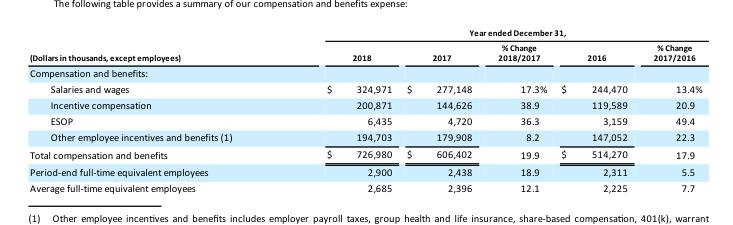table: (29, 28, 701, 193)
table column: (29, 28, 278, 193), (278, 28, 398, 193), (398, 28, 484, 193), (553, 28, 639, 193), (484, 28, 553, 193), (639, 28, 701, 193)
table column header: (29, 28, 701, 65)
table projected row header: (29, 65, 701, 81)
table row: (29, 40, 701, 65), (29, 145, 701, 163), (29, 163, 701, 180), (29, 65, 701, 81), (29, 81, 701, 97), (29, 97, 701, 113), (29, 113, 701, 129), (29, 129, 701, 145), (29, 180, 701, 193), (29, 28, 701, 40)
table spanning cell: (29, 28, 278, 65), (278, 28, 701, 40)
